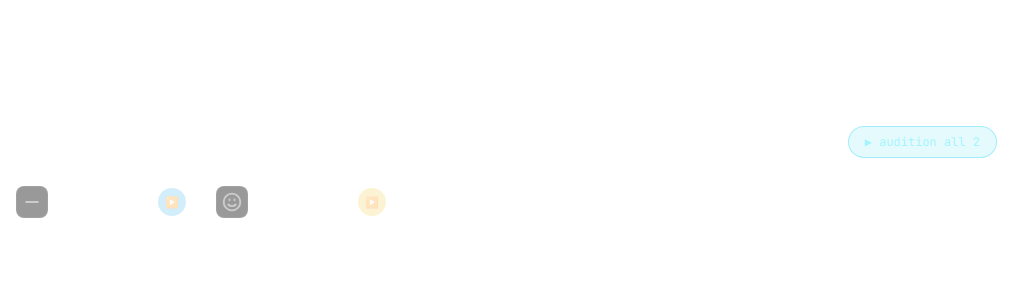
Test: EmotionAudition › shows a failure against its own emotion, in the backend's words
The width and height of the screenshot is (1013, 290).
Step 1. Click the button "▶ audition all 2" → [922, 142], box x1=848 y1=126 x2=997 y2=158
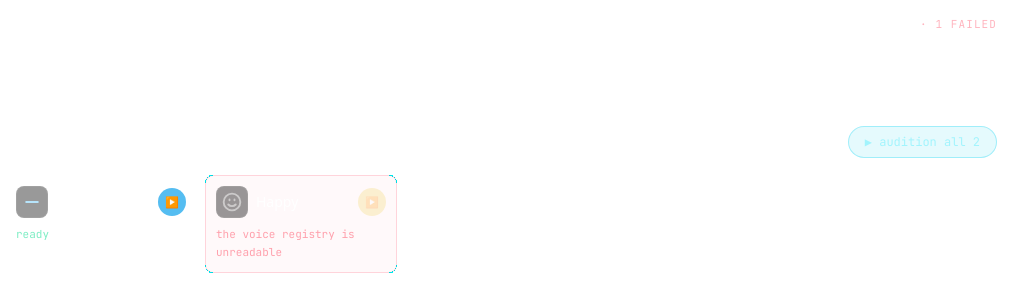
Expected: the button named "Play the auditioned Happy take" is disabled, x1=358 y1=188 x2=386 y2=216
Expected: the text "the voice registry is unreadable" is shown, x1=216 y1=227 x2=355 y2=259
Expected: the text "1/2 rendered" is shown, x1=820 y1=16 x2=997 y2=32
